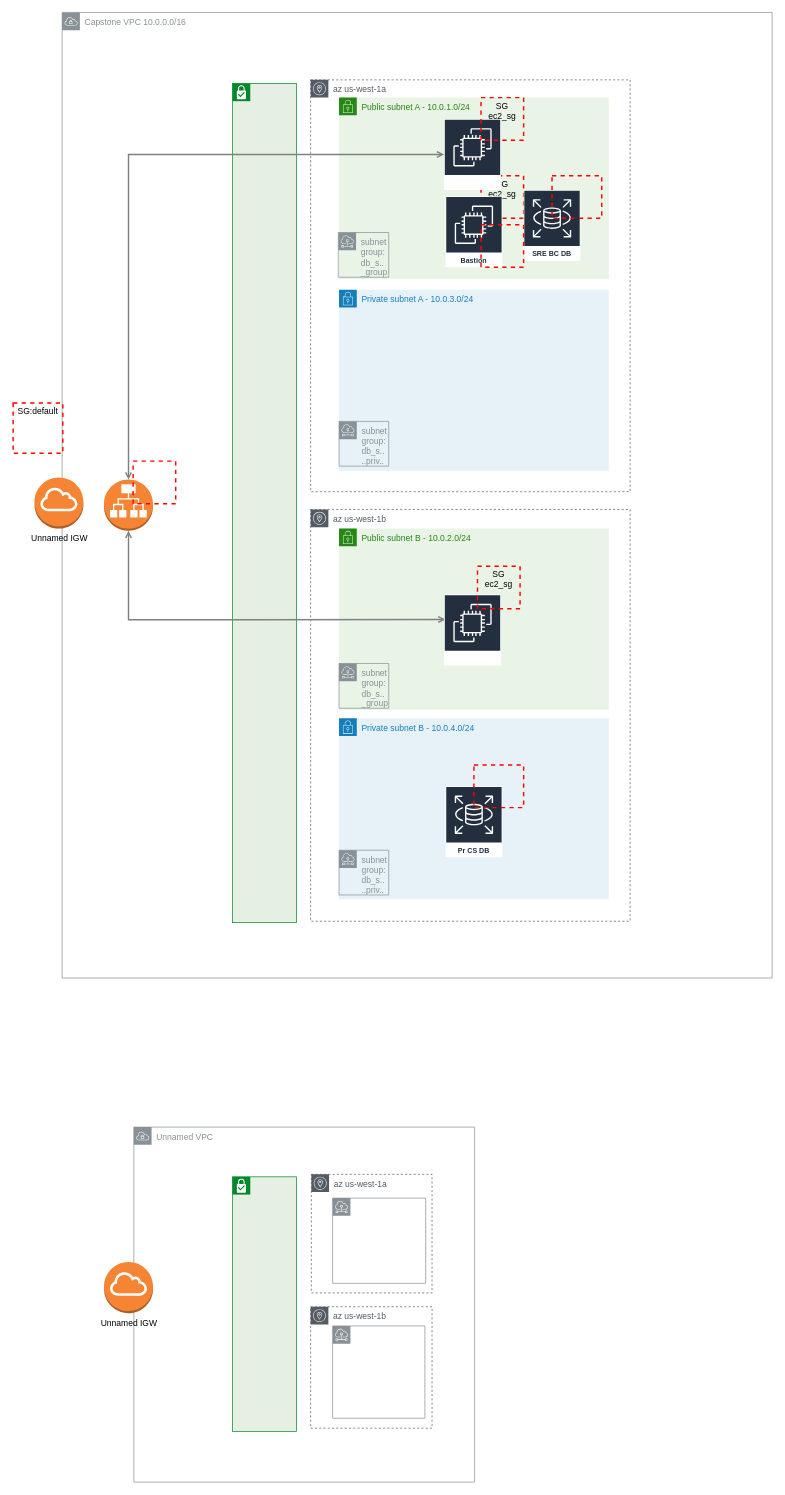
Some shapes in this 785 by 1495 pixel diagram are drawn without their labels. The centre of each missing label's shape, as x and y in pixels:
"Capstone load Balance" belongs at pixel 128 505.
"SG allow_http" belongs at pixel 154 482.
"SG database-sg" belongs at pixel 576 197.
"SG terraform" belongs at pixel 502 246.
"SG:private-database-sg" belongs at pixel 498 786.
"Unnamed ACL" belongs at pixel 264 1303.
"unnamed NACL" belongs at pixel 264 503.
"Unnamed Subnet 172.31.0.0/20" belongs at pixel 379 1240.
"Unnamed Subnet 172.31.16.0/20" belongs at pixel 378 1371.
"web-server-a" belongs at pixel 472 154.
"web-server-b" belongs at pixel 472 630.
